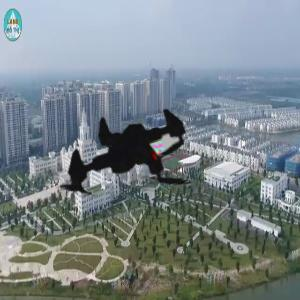drone: (28, 63, 233, 268)
